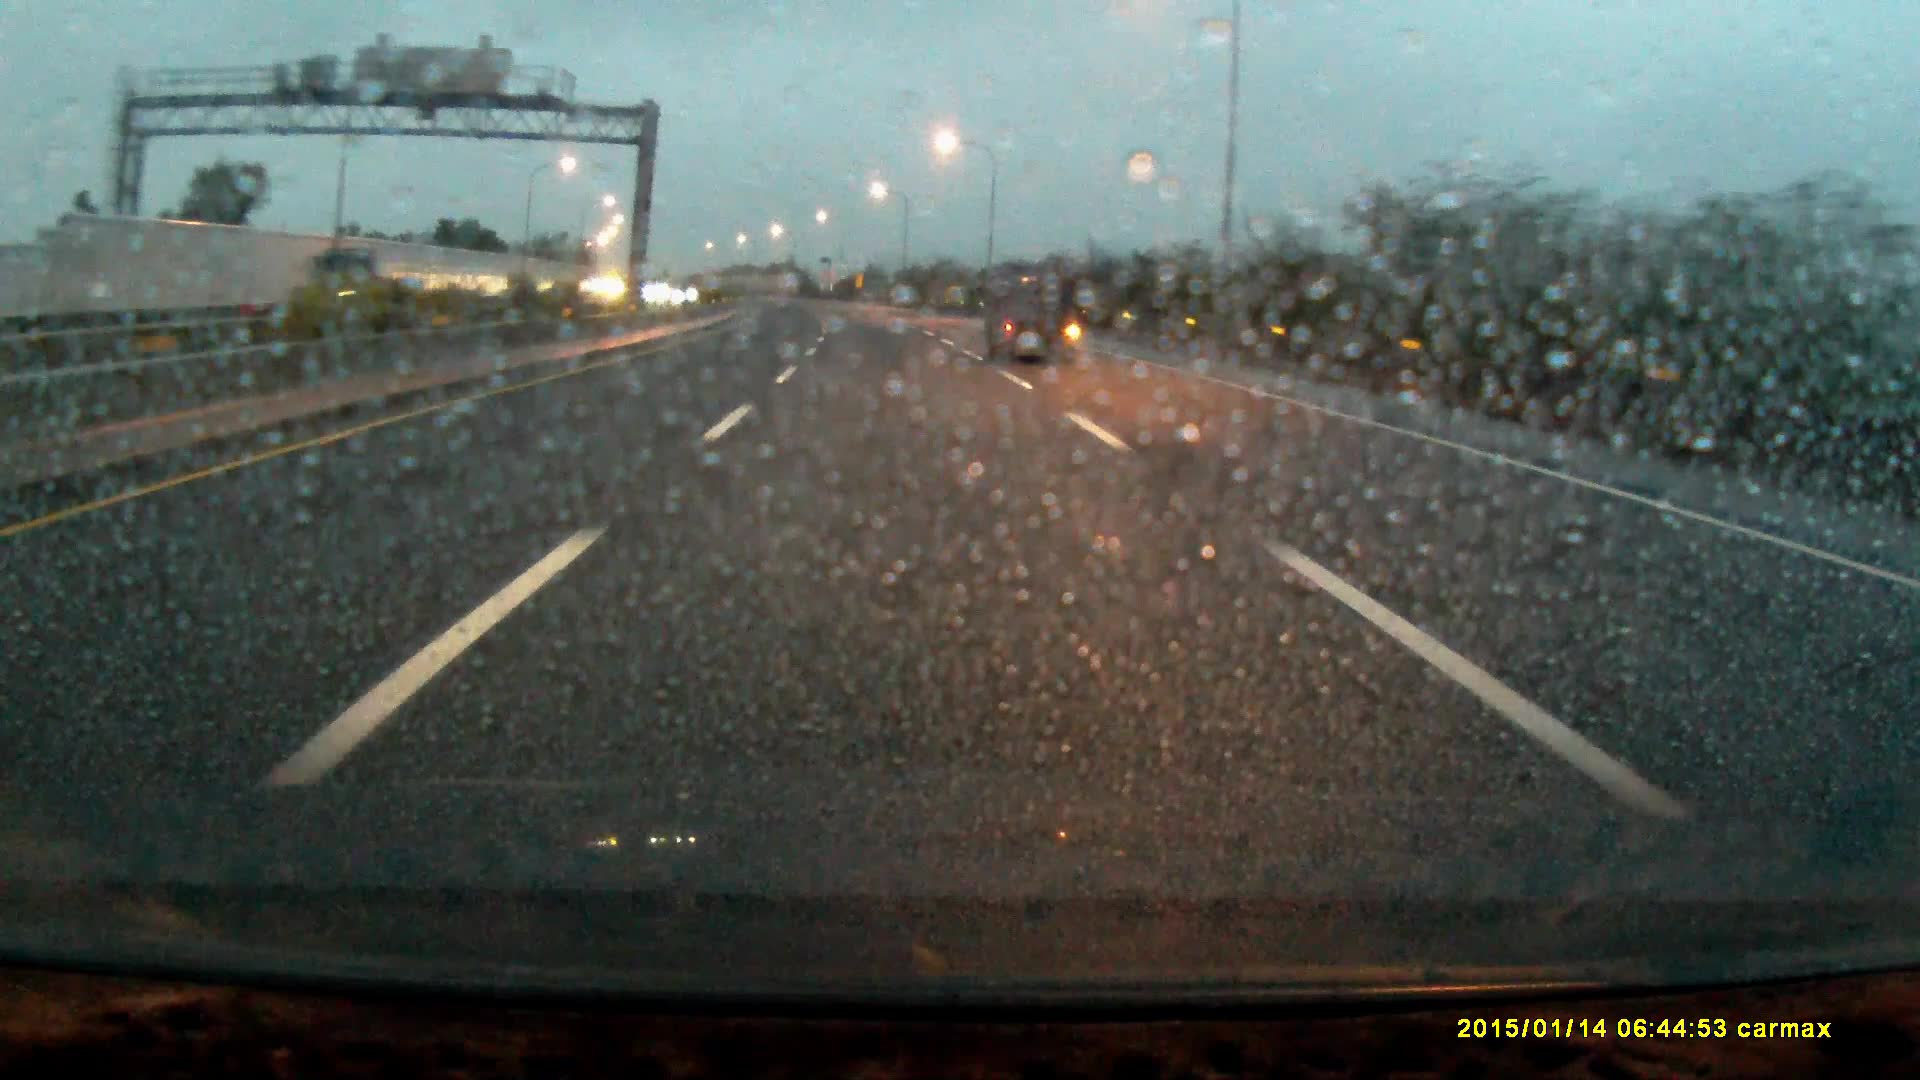vehicle: (299, 247, 429, 322), (992, 272, 1077, 367)
